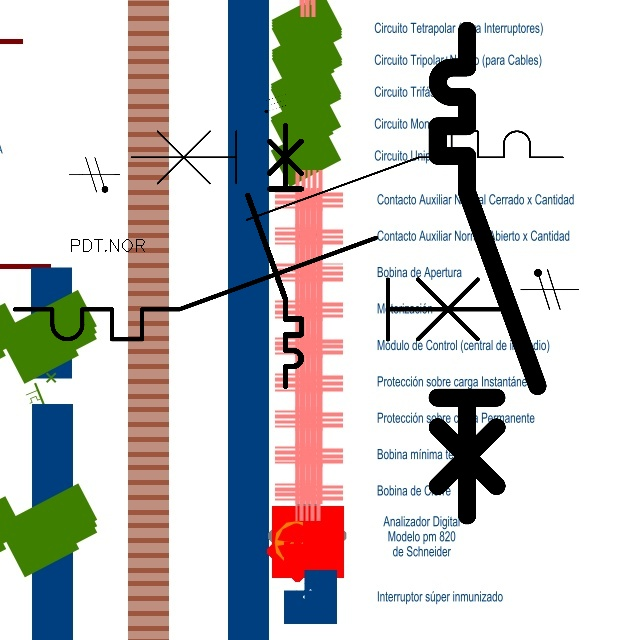interruptor_termomagnetico: (2, 225, 520, 352), (425, 18, 550, 528), (120, 120, 573, 231), (241, 119, 308, 393)
